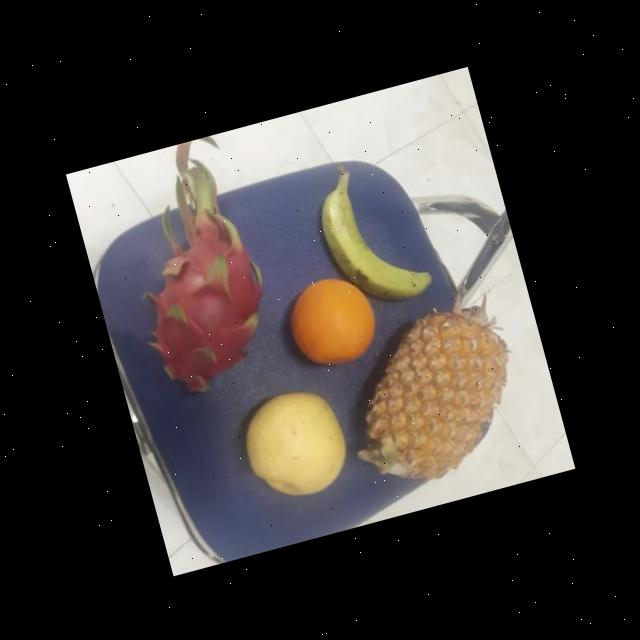banana: (308, 166, 438, 316)
orange: (278, 266, 388, 373)
pear: (232, 380, 358, 509)
pineapple: (340, 292, 542, 494)
pitaya: (129, 208, 292, 400)
